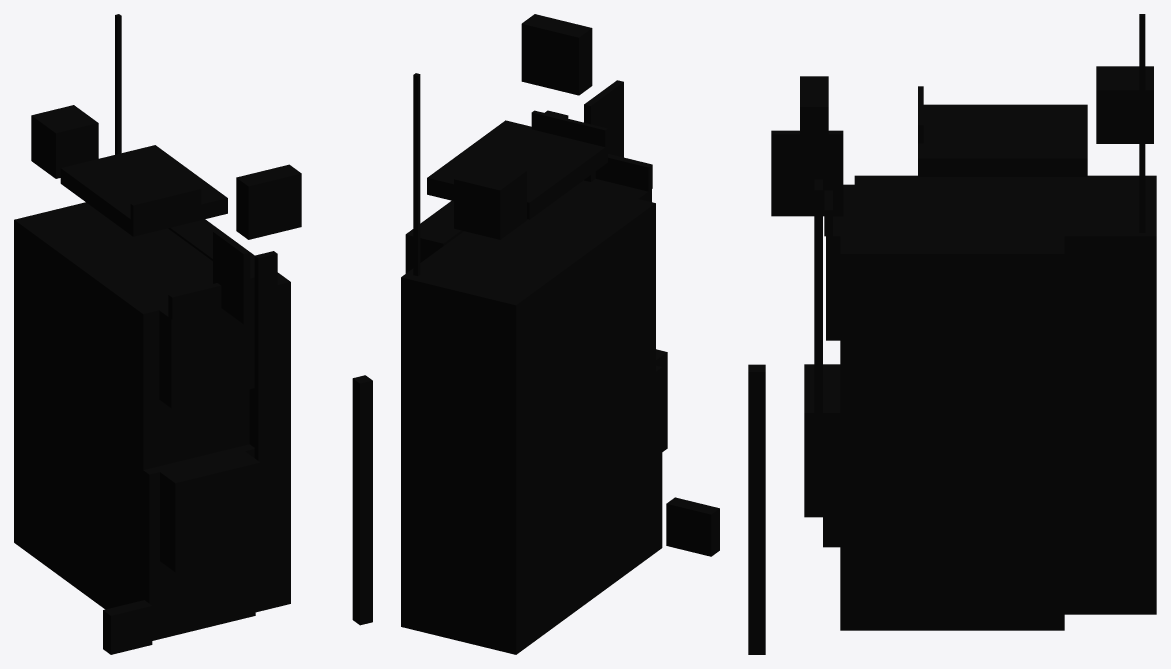
The model's file is far-BfuvBCbd.glb.
3 renders of one model, left to right at view 1: azimuth 30°, elevation 25°; view 2: azimuth 150°, elevation 25°; view 3: azimuth 270°, elevation 25°, orthographic. The views are drawn at different scales.
Parts seen in each view (by area): view 1: farBaked; view 2: farBaked; view 3: farBaked.
Boxes of the visible parts, bbox=[...] form: farBaked: bbox=[14, 14, 372, 654]; farBaked: bbox=[401, 14, 719, 654]; farBaked: bbox=[748, 14, 1156, 654].
Size of the model in its own units: 10.8 by 22.8 by 14.2.
1 material, 1 textured.
